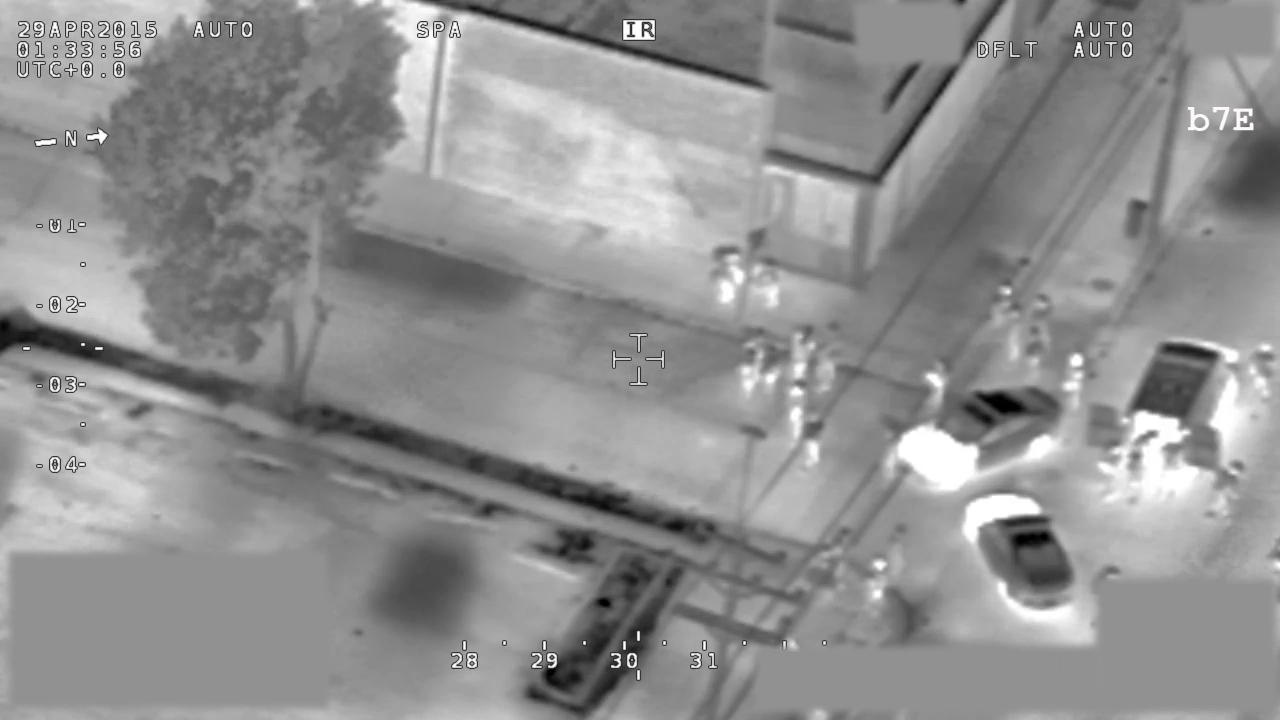vehicle: (1085, 334, 1241, 504), (901, 382, 1063, 495), (963, 493, 1083, 623)
